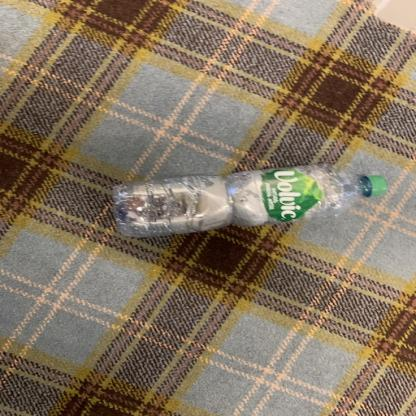trash: (110, 163, 388, 239)
